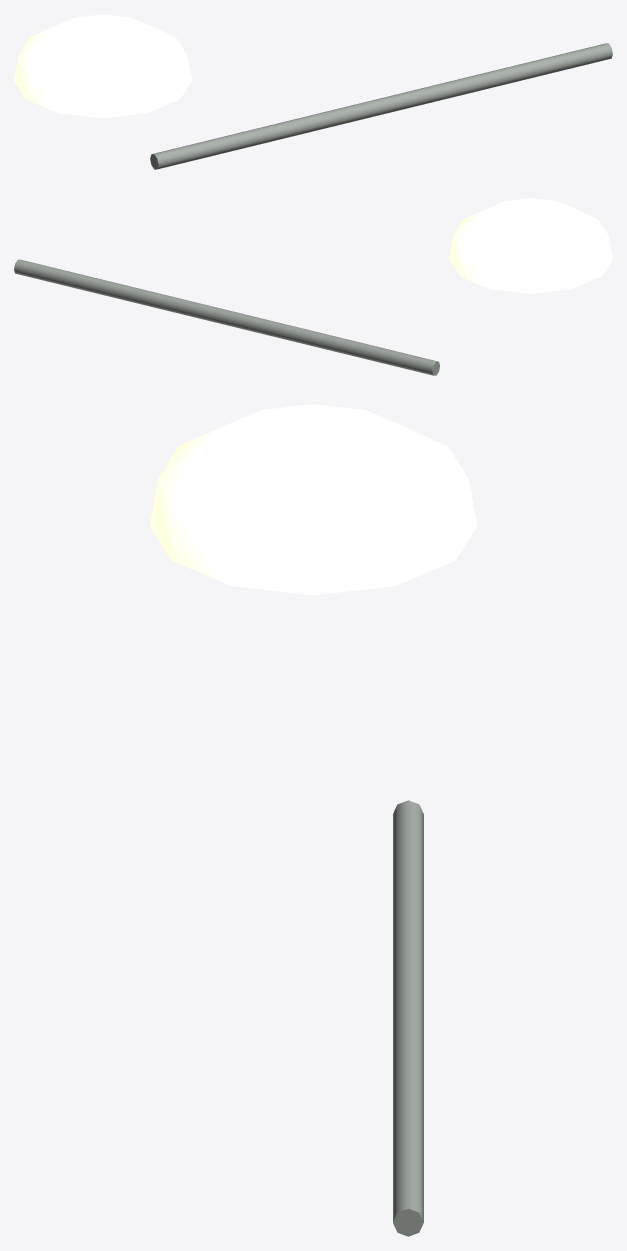
Rendered from SM_Town_Motel_Room6Fixtures_LOD1.fbx.
3 views of the same model, one above another, from view 1: azimuth 30°, elevation 25°; view 2: azimuth 150°, elevation 25°; view 3: azimuth 270°, elevation 25° (orthographic). The views are drawn at different scales.
Parts seen in each view (by area): view 1: SM_Town_Motel_Room6Fixtures_LOD1; view 2: SM_Town_Motel_Room6Fixtures_LOD1; view 3: SM_Town_Motel_Room6Fixtures_LOD1.
Boxes of the visible parts, box(x1,y1,x2,y2) form: SM_Town_Motel_Room6Fixtures_LOD1: box(14, 14, 612, 169); SM_Town_Motel_Room6Fixtures_LOD1: box(14, 198, 612, 375); SM_Town_Motel_Room6Fixtures_LOD1: box(149, 404, 477, 1236).
Size of the model in its own units: 1.5 by 0.38 by 0.398.
